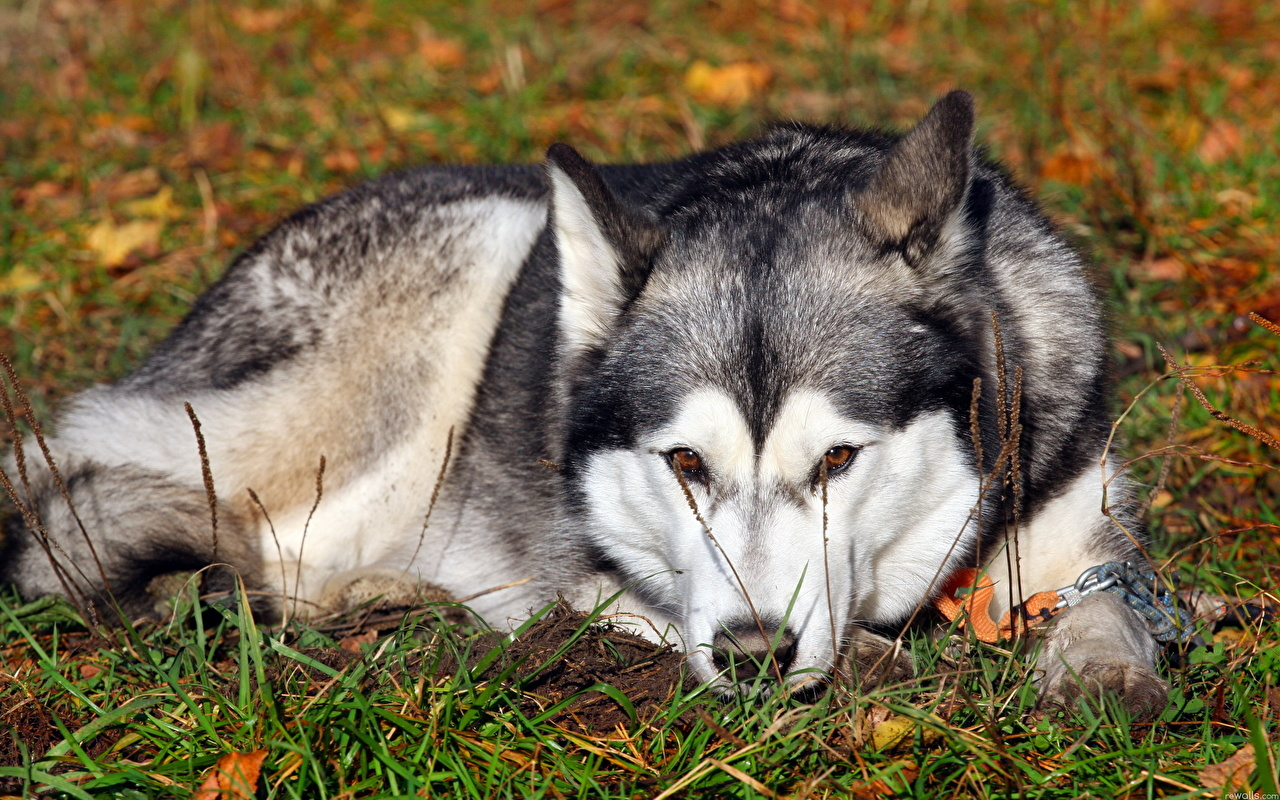husky: (426, 69, 1180, 735)
